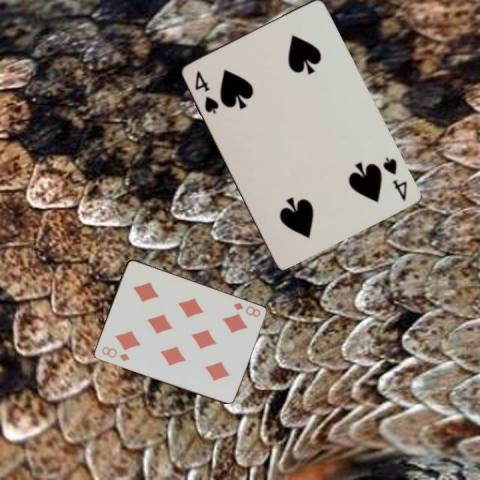4s: (379, 153, 408, 202), (191, 68, 220, 115)
8d: (98, 343, 131, 363), (230, 299, 261, 319)
